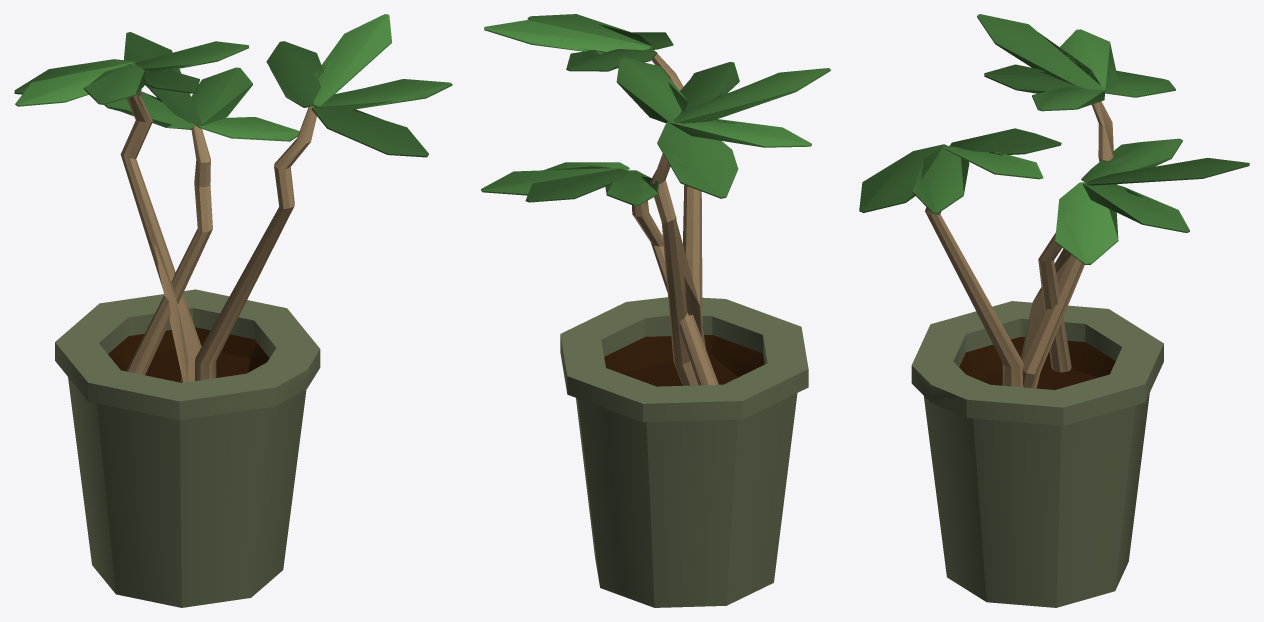
The model's file is plant.glb.
The picture shows the model from 3 angles, left to right: view 1: azimuth 30°, elevation 25°; view 2: azimuth 150°, elevation 25°; view 3: azimuth 270°, elevation 25°; orthographic projection. The views are drawn at different scales.
Visible parts, largest first — view 1: Cylinder.016; view 2: Cylinder.016; view 3: Cylinder.016.
Part boxes in pixels (x1,y1,x2,y2): Cylinder.016: (14, 14, 452, 607); Cylinder.016: (481, 14, 830, 607); Cylinder.016: (859, 14, 1249, 607).
Bounding box in the file's own units: 1.73 × 2.35 × 1.67.
